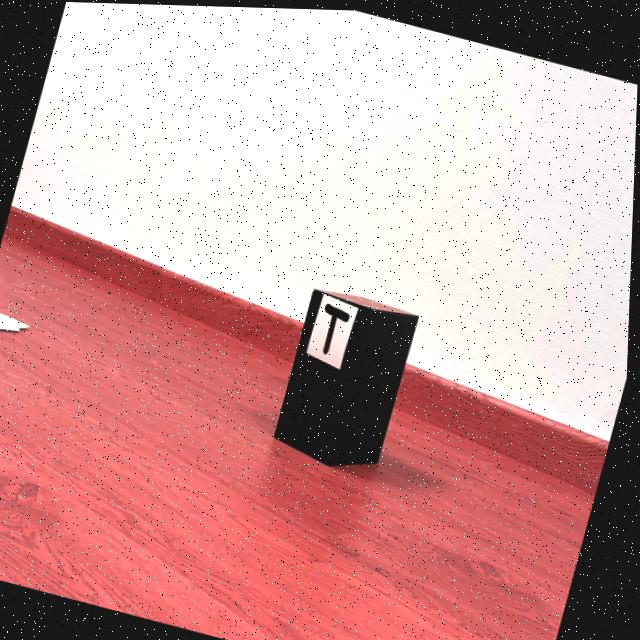T: (325, 301, 352, 353)
